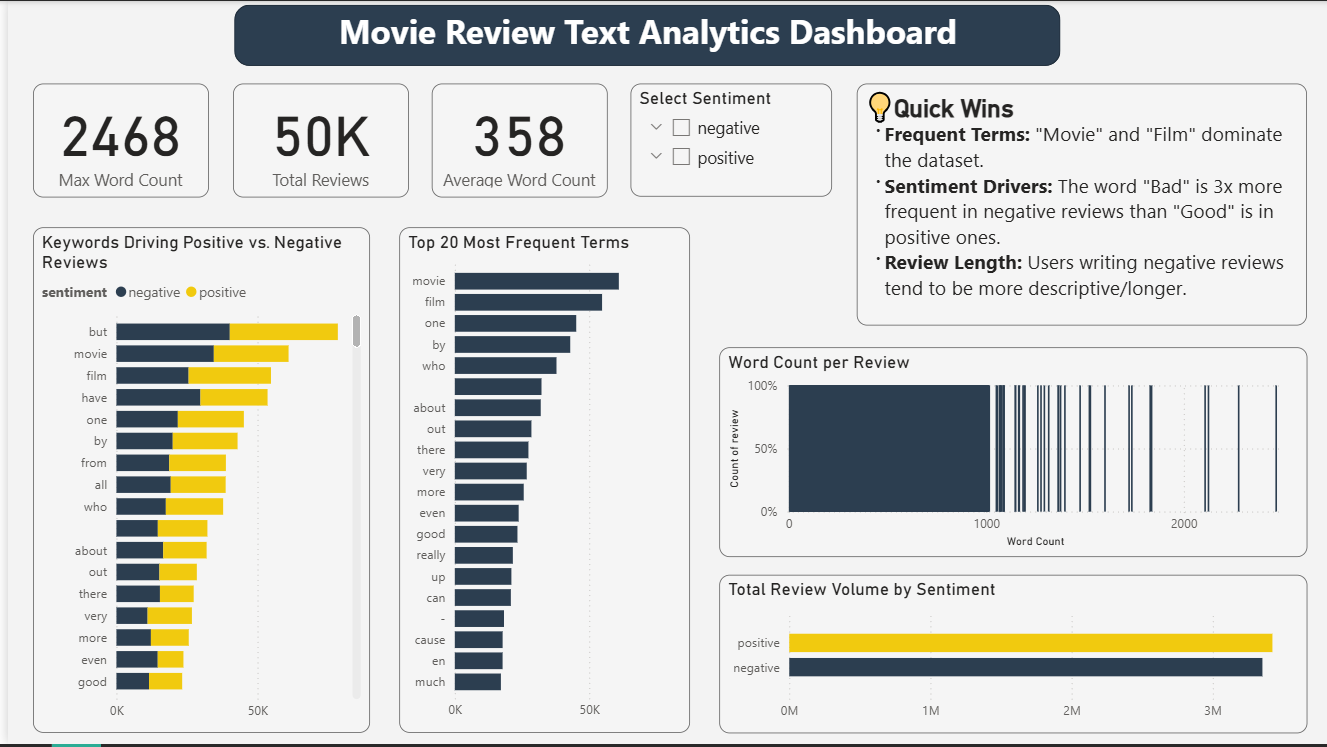

Layout of this report page (visuals, bound fields, positions):
{"tool":"powerbi","page":{"name":"Page 1","canvas":[1280,720],"ordinal":0},"visuals":[{"type":"clusteredBarChart","fields":{"Y":["CountNonNull(Movie Data.sentiment)"],"Category":["Movie Data.sentiment"]},"box":[720,300,522.5,137.5],"z":0},{"type":"hundredPercentStackedColumnChart","fields":{"Category":["Movie Data.Word Count"],"Y":["CountNonNull(Movie Dataset 5.review)"]},"box":[720.2,438.2,543.5,271.2],"z":1000},{"type":"barChart","title":"Unigram Analysis","fields":{"Y":["CountNonNull(Movie Data.Word)"],"Category":["Movie Data.Word"]},"box":[438,9.8,282.2,699.4],"z":2000},{"type":"barChart","title":"Word Frequency By Sentiment","fields":{"Category":["Movie Data.Word"],"Y":["CountNonNull(Movie Data.Word)"],"Series":["Movie Data.sentiment"]},"box":[24.5,138.7,389,570.6],"z":3000},{"type":"card","fields":{"Values":["Movie Data.Max Word Count"]},"box":[721.2,25,145,108.8],"z":4000},{"type":"card","fields":{"Values":["Movie Data.Average Word Count"]},"box":[905,21.2,172.5,117.5],"z":5000},{"type":"card","fields":{"Values":["Movie Data.Total Reviews"]},"box":[1113.8,26.2,150,107.5],"z":6000},{"type":"clusteredBarChart","fields":{"Category":["Movie Data.Noise Type"],"Y":["CountNonNull(Movie Data.Noise Type)"]},"box":[721.2,138.8,521.2,152.5],"z":7000},{"type":"textbox","box":[24.5,20.9,375.5,103.1],"z":8000}]}

Visuals, with their boxes in screenshot pixels (x1, y1, x2, y2), scaled from the page's 1280x720 canvas onto the 1327x747 screenshot:
clusteredBarChart - CountNonNull(Movie Data.sentiment) x Movie Data.sentiment: x1=746, y1=311, x2=1288, y2=454
hundredPercentStackedColumnChart - Movie Data.Word Count x CountNonNull(Movie Dataset 5.review): x1=747, y1=455, x2=1310, y2=736
"Unigram Analysis" barChart: x1=454, y1=10, x2=747, y2=736
"Word Frequency By Sentiment" barChart: x1=25, y1=144, x2=429, y2=736
card - Movie Data.Max Word Count: x1=748, y1=26, x2=898, y2=139
card - Movie Data.Average Word Count: x1=938, y1=22, x2=1117, y2=144
card - Movie Data.Total Reviews: x1=1155, y1=27, x2=1310, y2=139
clusteredBarChart - Movie Data.Noise Type x CountNonNull(Movie Data.Noise Type): x1=748, y1=144, x2=1288, y2=302
textbox: x1=25, y1=22, x2=415, y2=129
